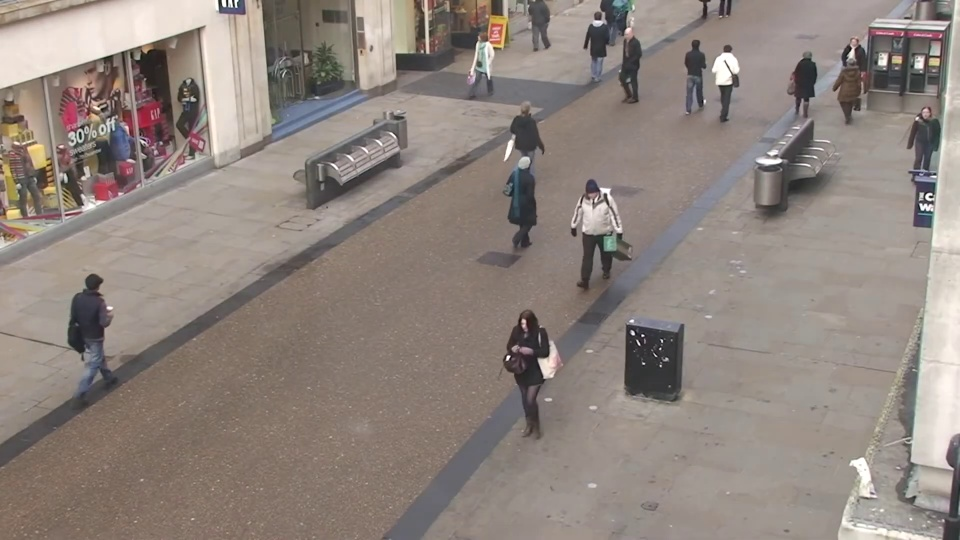pedestrian: (84, 257, 141, 387), (501, 312, 548, 459), (896, 106, 941, 203), (567, 182, 603, 296), (516, 147, 550, 253), (827, 52, 862, 133), (518, 95, 549, 186), (834, 35, 868, 113), (787, 44, 818, 123), (713, 39, 740, 114), (685, 34, 711, 108), (465, 30, 491, 102), (608, 28, 632, 100), (588, 9, 610, 75)
